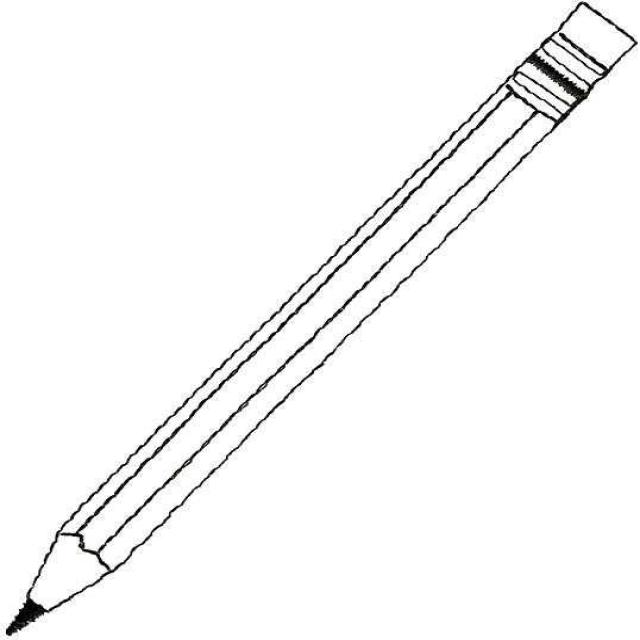pencil: (0, 0, 639, 639)
